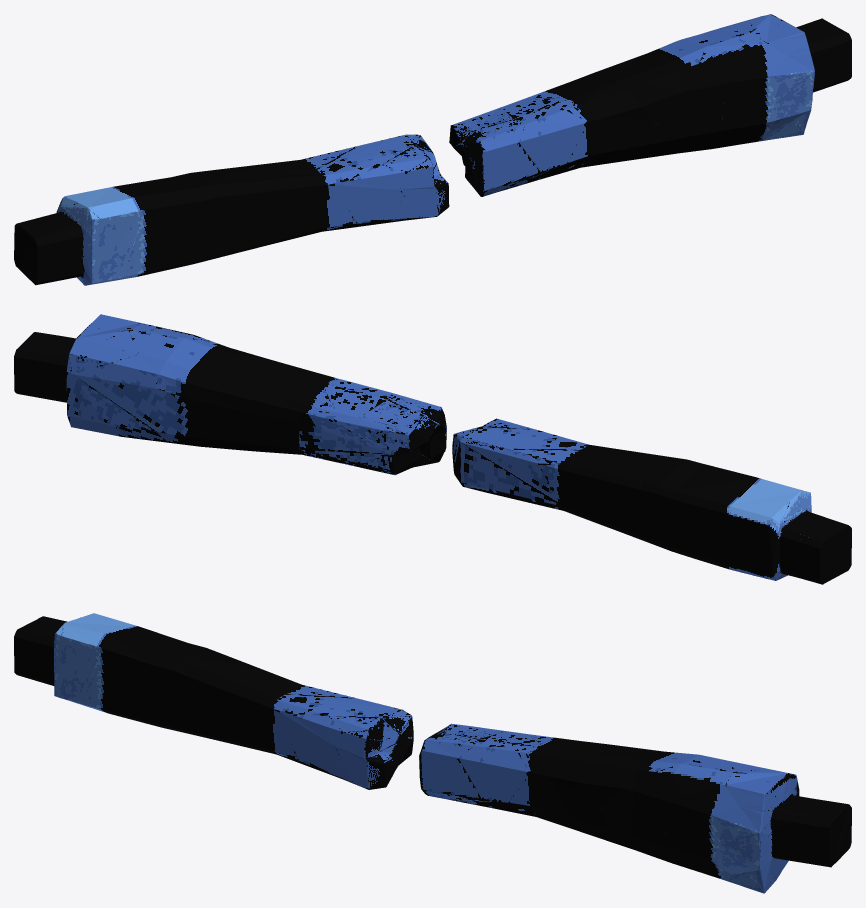
3 views of the same model, one above another, from view 1: azimuth 30°, elevation 25°; view 2: azimuth 150°, elevation 25°; view 3: azimuth 330°, elevation 25° (orthographic).
Parts seen in each view (by area): view 1: OBJ09f; view 2: OBJ09f; view 3: OBJ09f.
Boxes of the visible parts, box(x1,y1,x2,y2) form: OBJ09f: box(14, 14, 851, 285); OBJ09f: box(14, 314, 851, 584); OBJ09f: box(14, 613, 851, 893).
Bounding box in the file's own units: 0.3028 × 0.0371 × 0.0373.
1 material, 1 textured.
